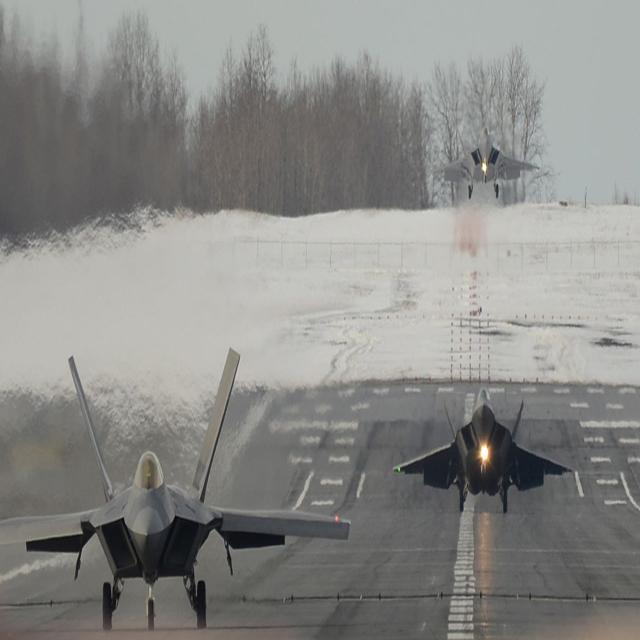MIL_Plane: (1, 346, 351, 630), (393, 387, 573, 513), (428, 125, 540, 198)
